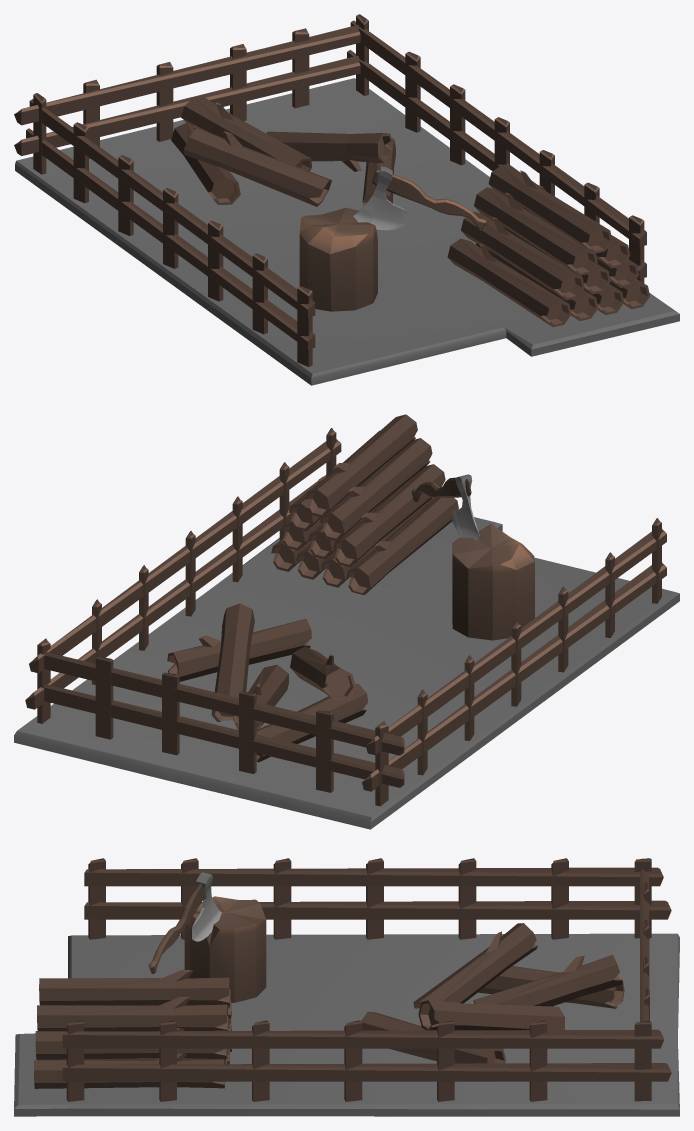
Rendered from sawmill_0lvl.fbx.
3 renders of one model, top to bottom at view 1: azimuth 30°, elevation 25°; view 2: azimuth 150°, elevation 25°; view 3: azimuth 270°, elevation 25°, orthographic. The views are drawn at different scales.
Parts seen in each view (by area): view 1: sawmill_0lvl; view 2: sawmill_0lvl; view 3: sawmill_0lvl.
Boxes of the visible parts, left/top/right/bottom form: sawmill_0lvl: left=14, top=14, right=679, bottom=385; sawmill_0lvl: left=14, top=414, right=679, bottom=829; sawmill_0lvl: left=14, top=858, right=679, bottom=1116.
Size of the model in its own units: 4.17 by 1.52 by 6.47.
